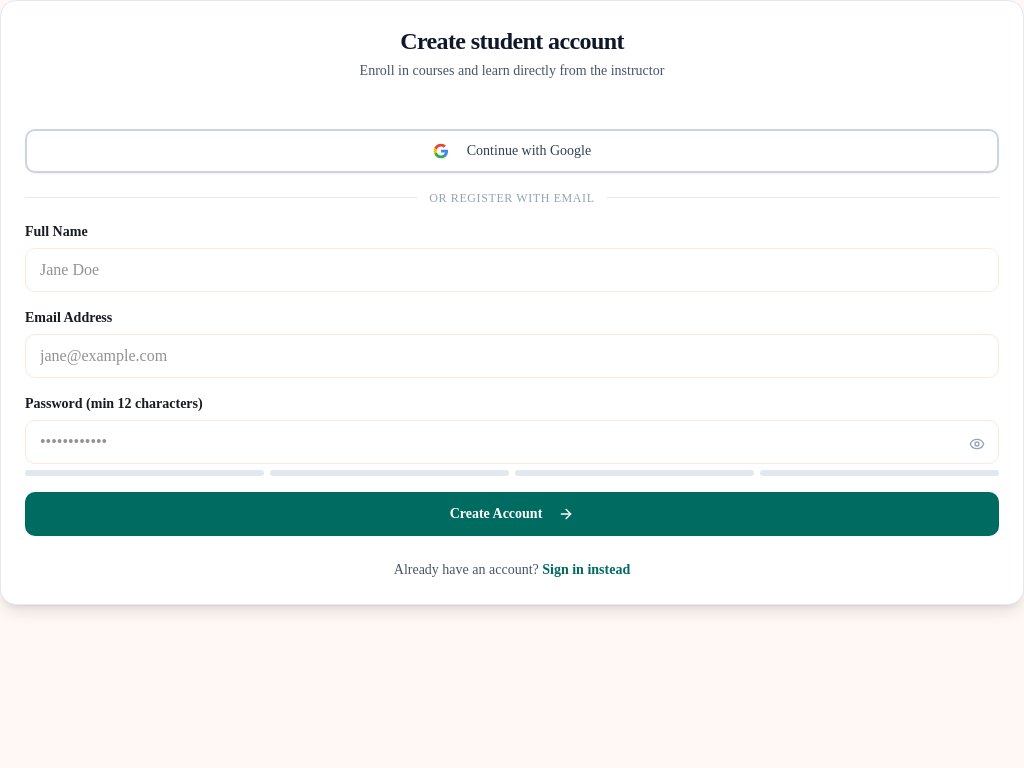
Scenario: Authentication Loading & Session Recovery Flows › 3. Student Registration Loading Flow › handles registration loading and displays success screen
Type "New Student" into the field labelled "Full Name" at (512, 270), box [25,248,999,292]
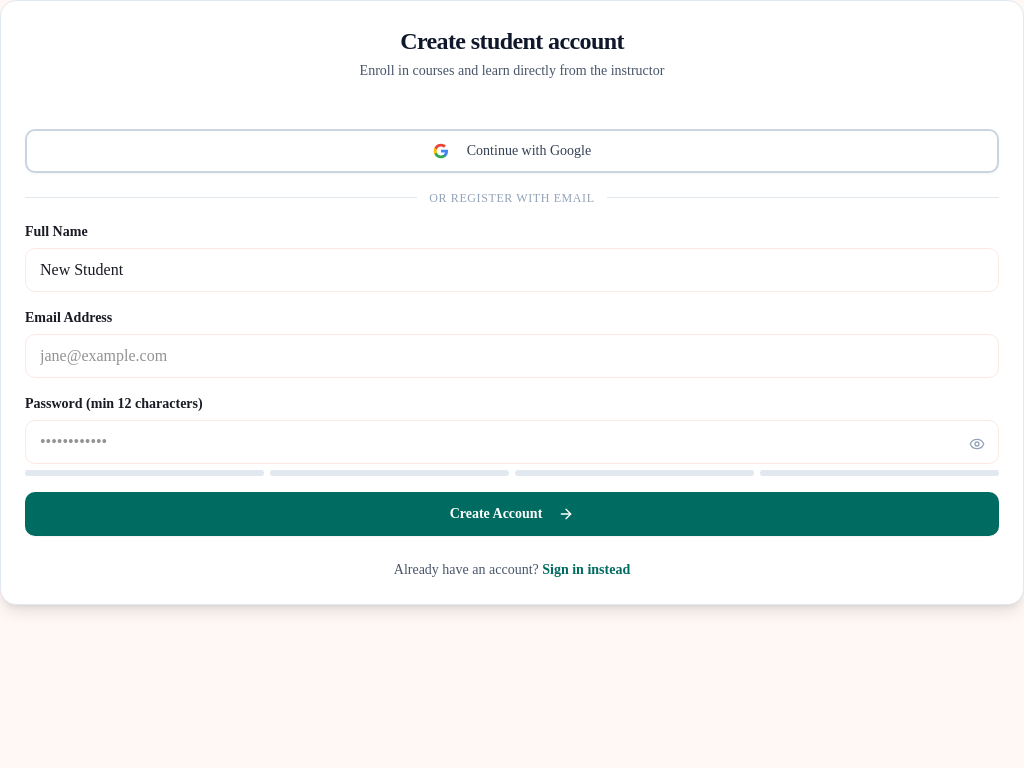
Type "newstudent@example.com" into the field labelled "Email Address" at (512, 356), box [25,334,999,378]
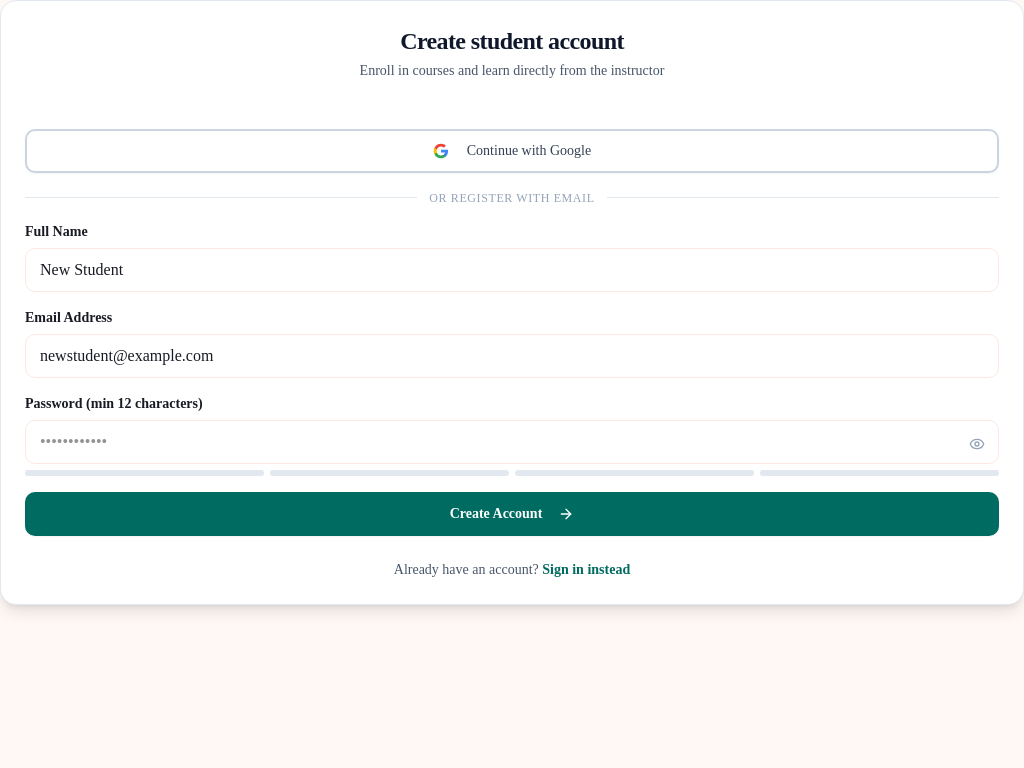
Type "supersecret1234" into the password field with placeholder "••••••••••••" at (512, 442), box [25,420,999,464]
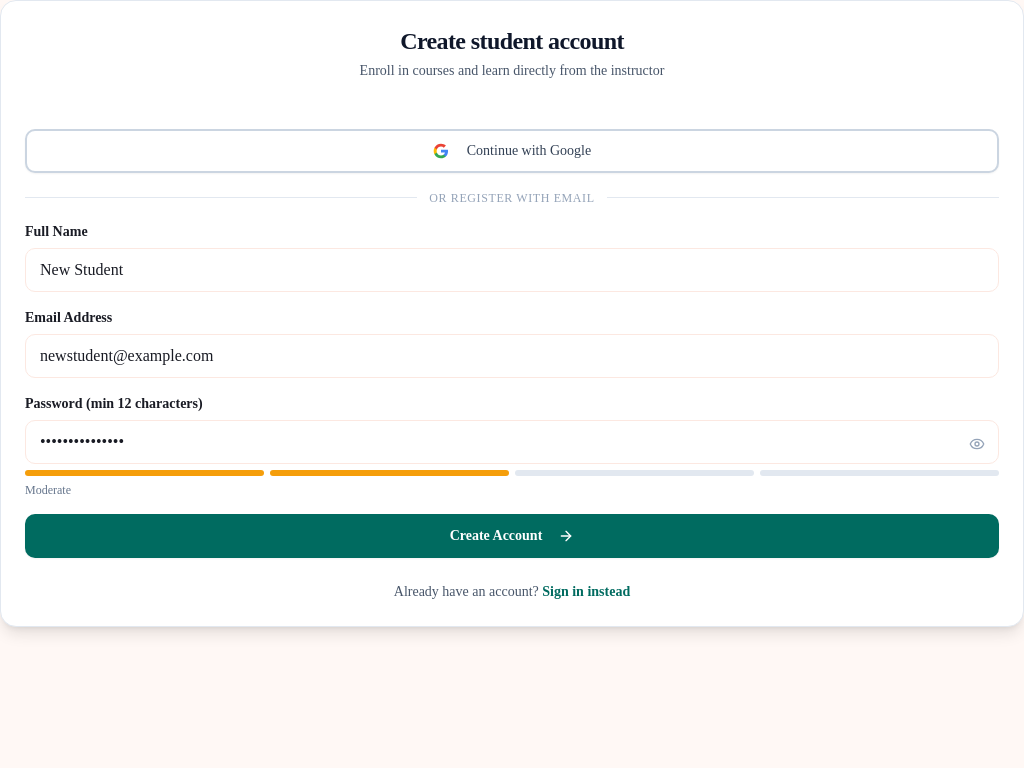
Click the button "Create Account" at (512, 536), box [25,514,999,558]
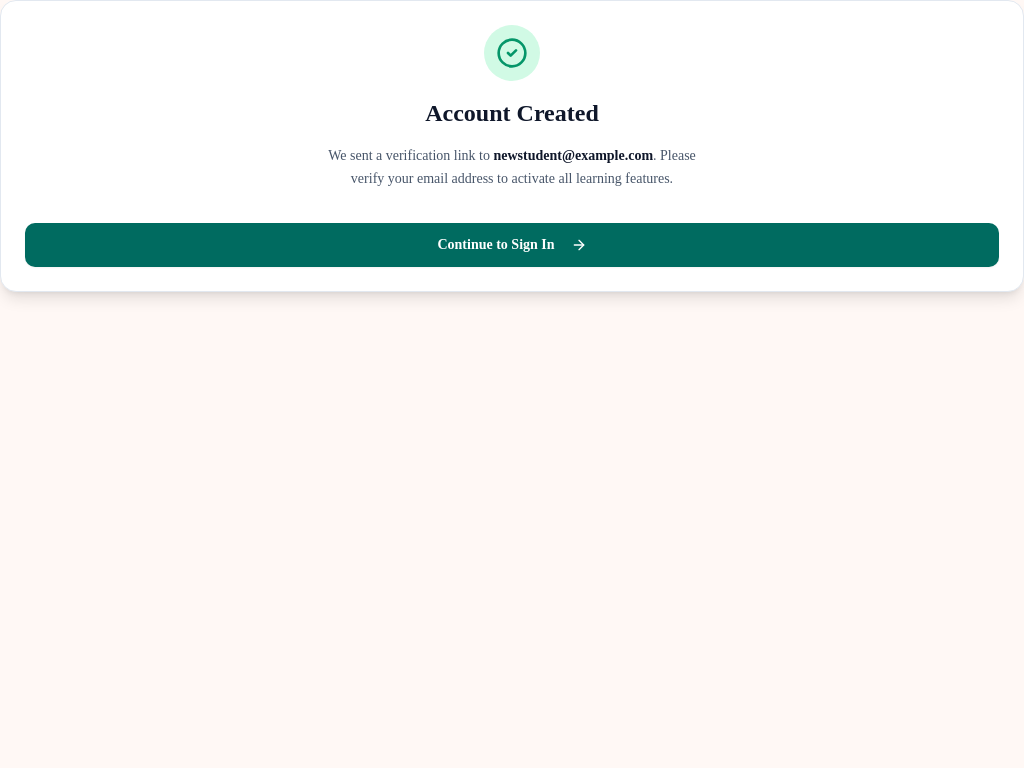
Result: the heading "Account Created" is shown at [425,100,599,126]
Result: the text "newstudent@example.com" is shown at [493,148,653,163]
